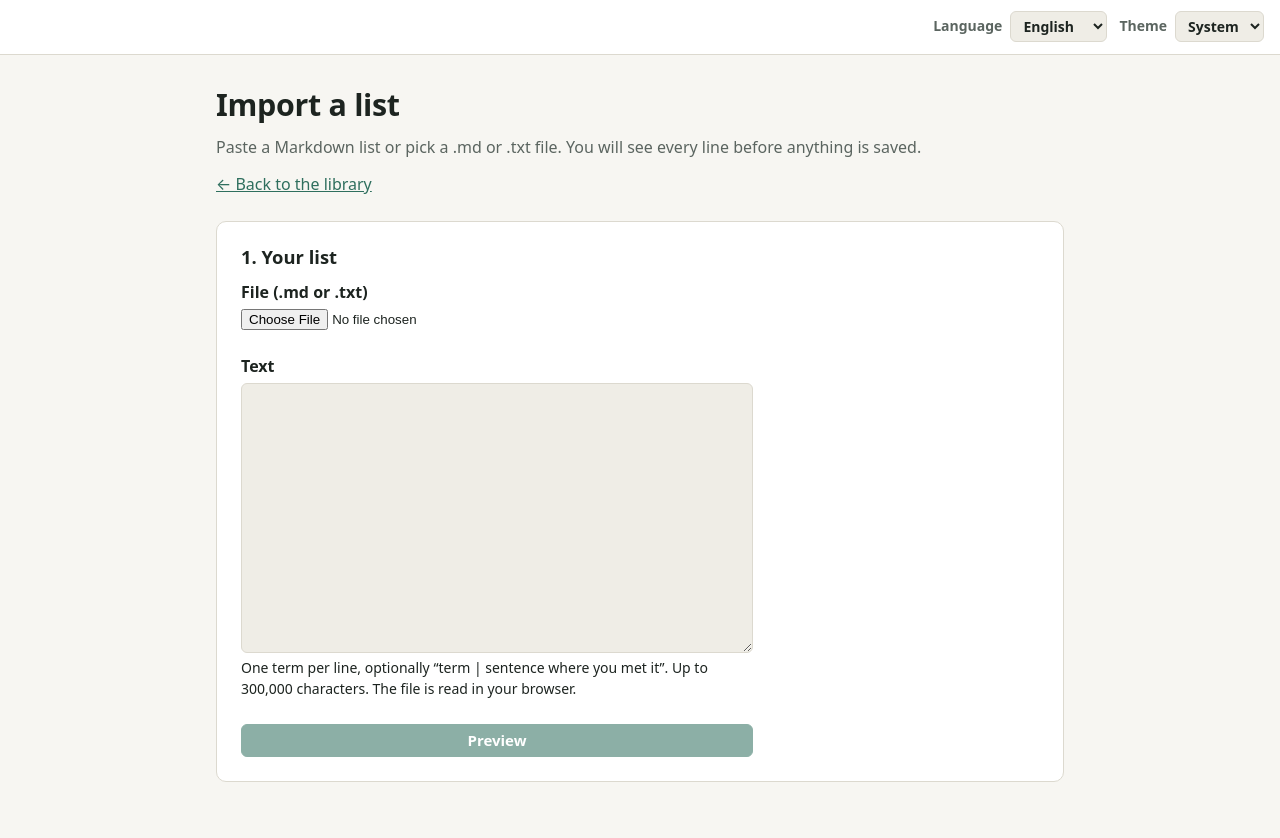
it: import page › a corrected term (the suggestion) is included without confirmation
The width and height of the screenshot is (1280, 838).
Type "- sampling frame" into the text box labelled "Text".
click(497, 518); type("- sampling frame")  # box [241, 382, 753, 653]
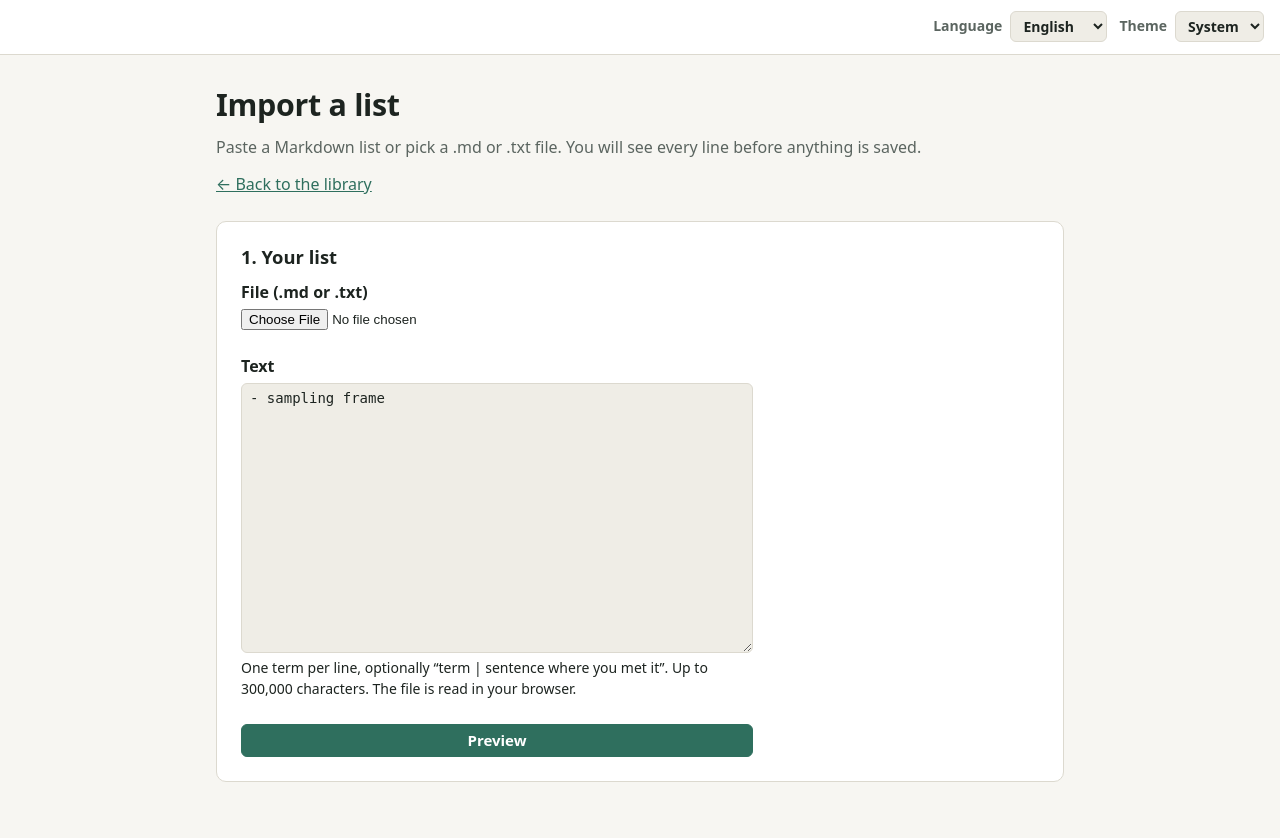
Click the button "Preview".
click(497, 741)  # box [241, 724, 753, 758]
(page scrolled)
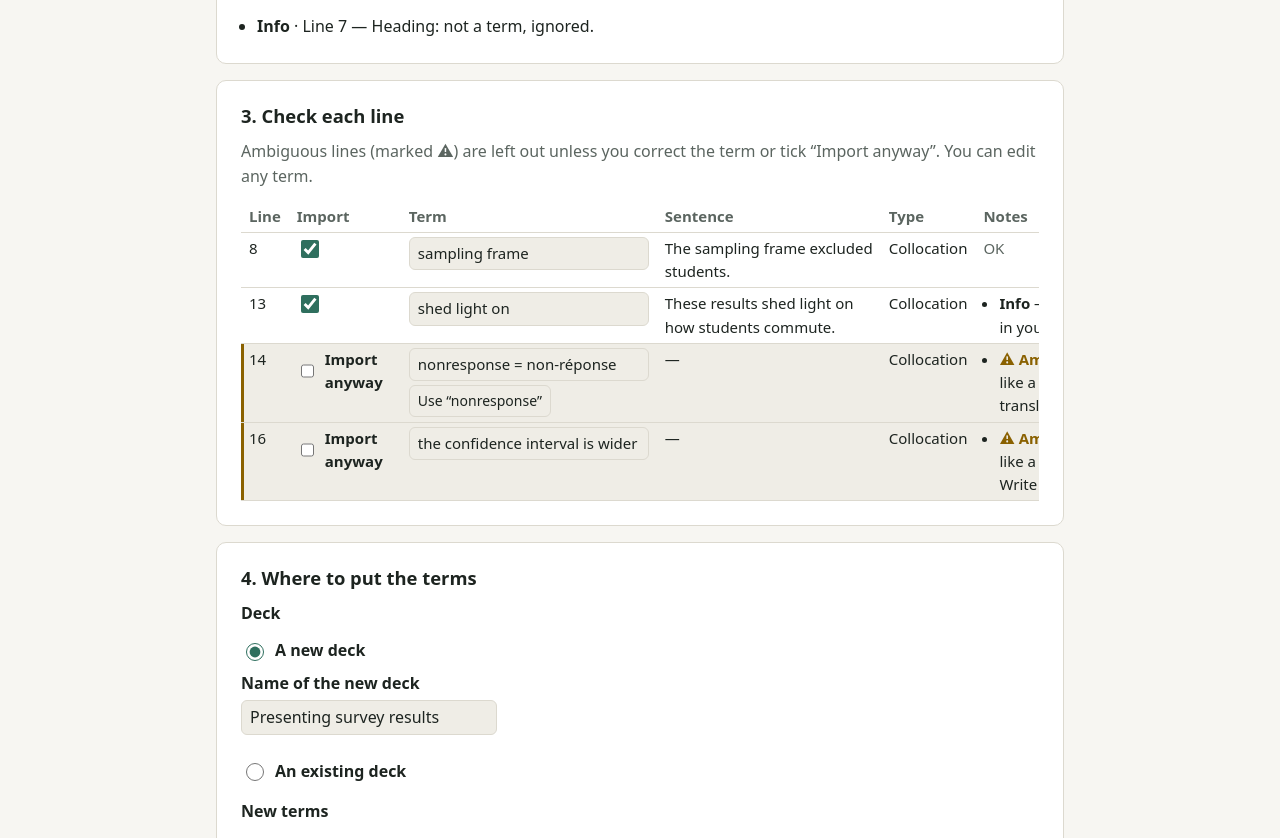
Expected: the heading "3. Check each line" is shown, [241, 103, 404, 128]
Click the button "Use “nonresponse”".
click(480, 401)  # box [409, 385, 551, 417]
(page scrolled)
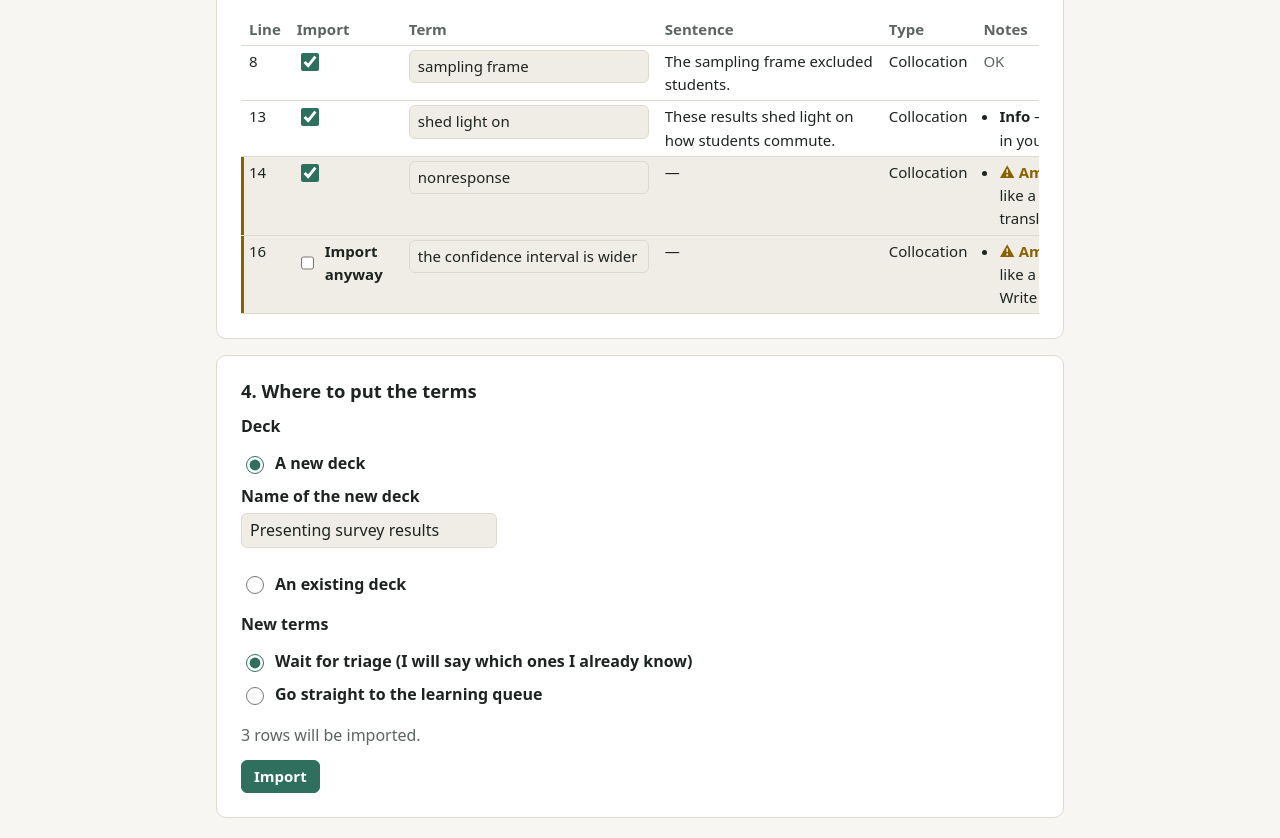
Expected: the checkbox named "Import line 14" next to "14" is checked, [301, 164, 319, 182]
Click the button "Import".
click(280, 776)  # box [241, 760, 320, 793]
(page scrolled)
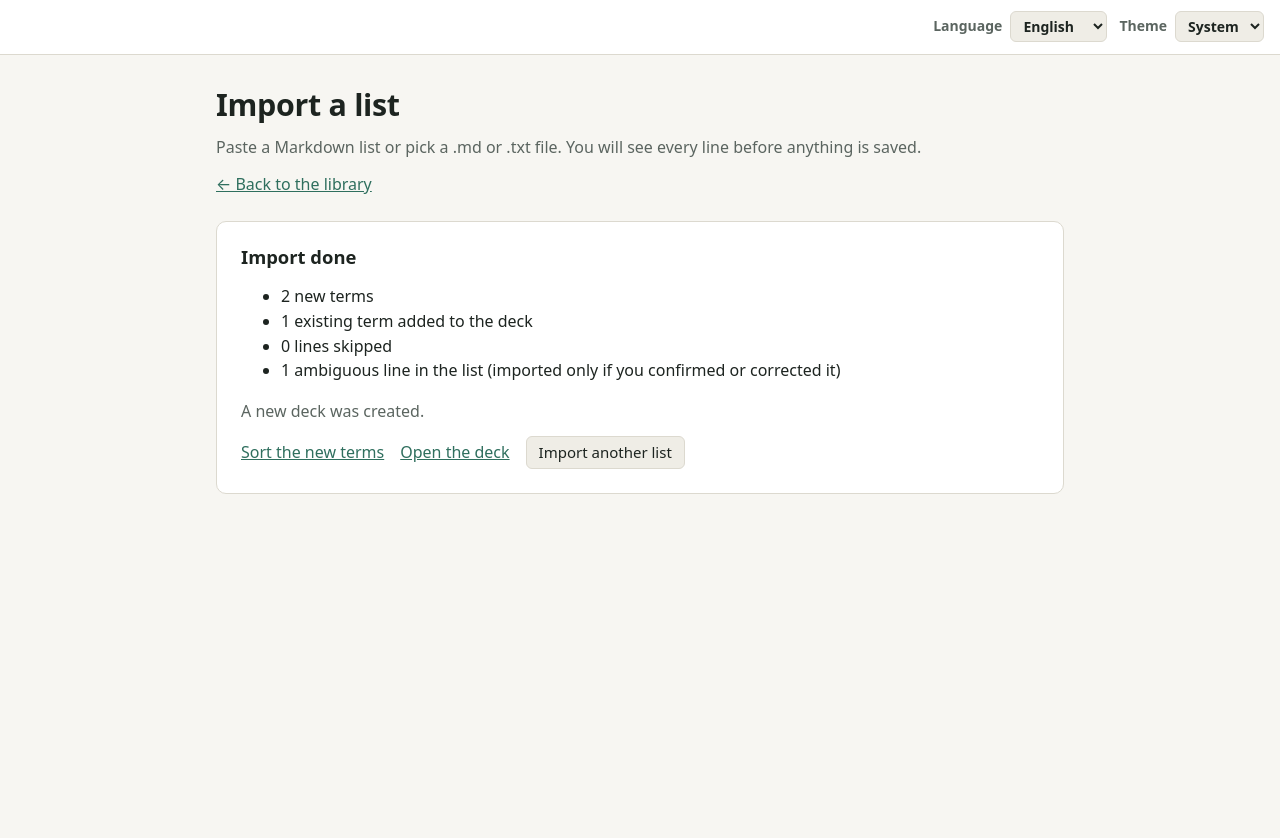
Expected: the heading "Import done" is shown, [241, 244, 356, 269]
